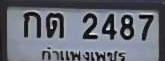2: (82, 12, 96, 38)
4: (101, 13, 115, 39)
7: (138, 14, 153, 40)
8: (119, 14, 133, 39)
A01: (23, 11, 40, 37)
A21: (45, 12, 63, 37)
KPT: (38, 46, 128, 61)
